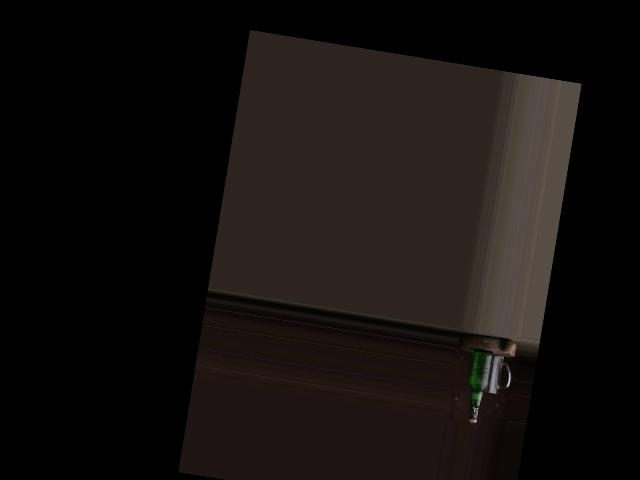beer: (462, 348, 494, 423)
